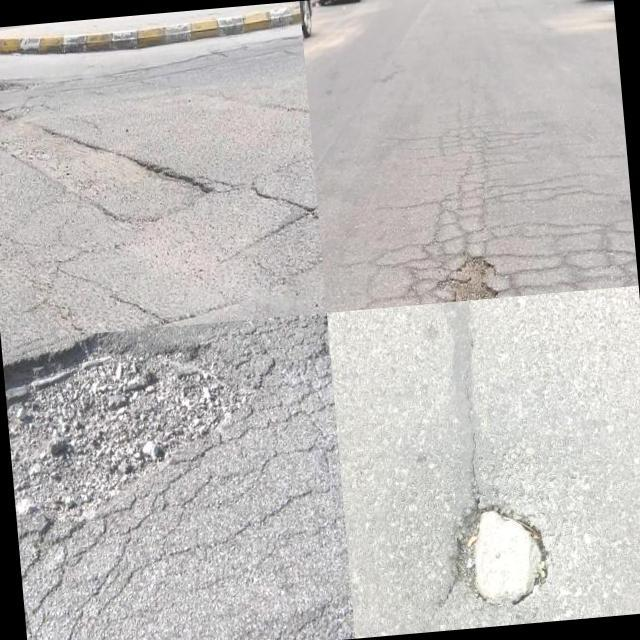Pothole: (3, 332, 234, 514), (67, 141, 217, 228), (454, 495, 548, 606), (444, 252, 500, 301)
